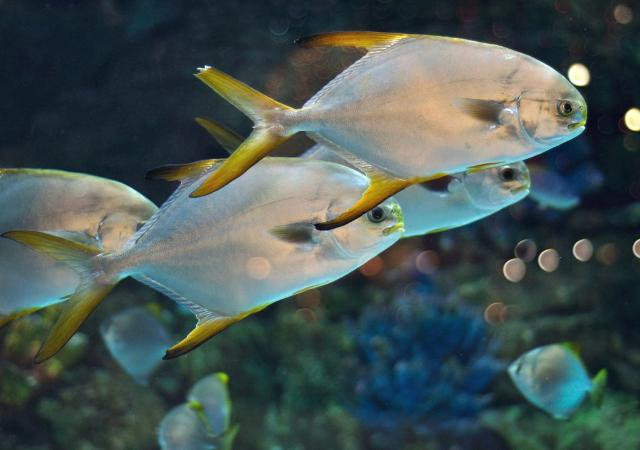Mulut: (370, 203, 416, 249), (560, 100, 602, 150), (502, 169, 546, 207)
Sirip Anal: (307, 122, 385, 174), (123, 269, 211, 315)
Sirip Dada: (423, 82, 513, 140), (248, 210, 328, 256)
Sirip Ekor: (184, 48, 302, 214), (0, 214, 118, 374)
Sirip Perut: (301, 175, 421, 232), (153, 318, 255, 376)
Sirip Punggung: (289, 16, 431, 76)
